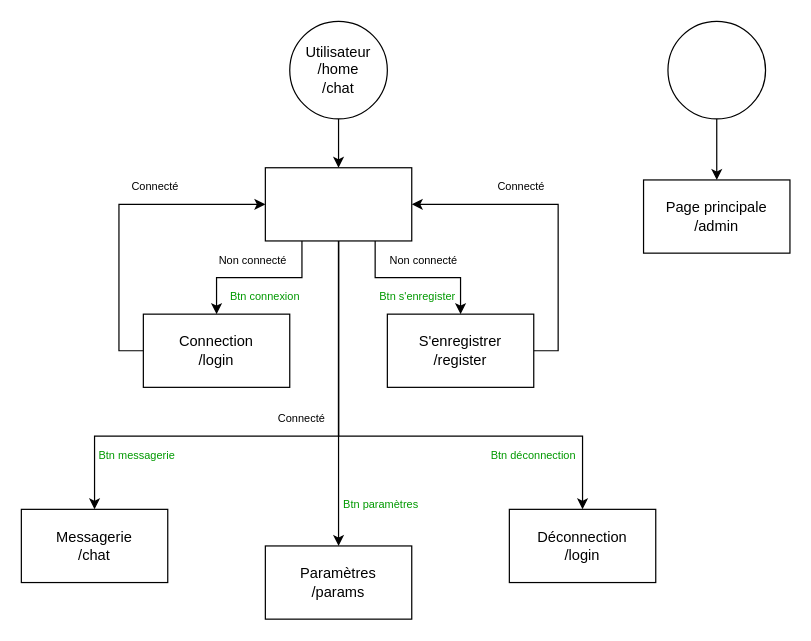
This 811x641 diagram has some shape labels left out. Here are the shapes that lost their labels. From the top down, the box of each, then its label:
(667, 20, 766, 119): Administrateur /admin
(264, 167, 412, 241): Page principale /home
